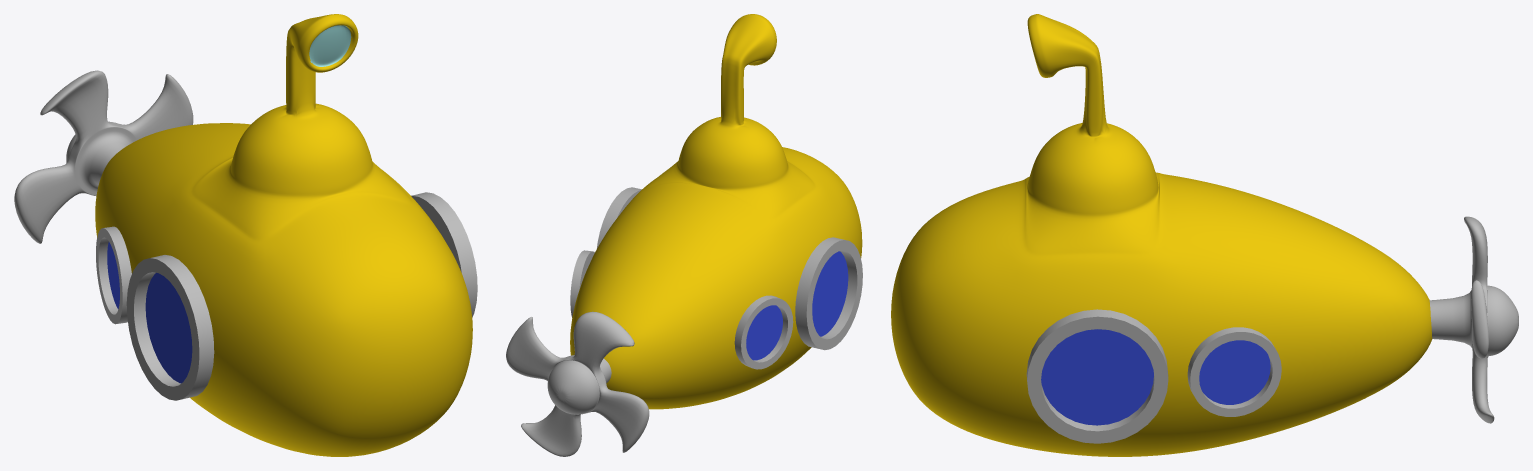
Rendered from Podmornica_model.fbx.
The picture shows the model from 3 angles, left to right: view 1: azimuth 30°, elevation 25°; view 2: azimuth 150°, elevation 25°; view 3: azimuth 270°, elevation 25°; orthographic projection. The views are drawn at different scales.
Visible parts, largest first — view 1: Podmornica, Circle, Cylinder.001, Cylinder.003, Cylinder; view 2: Podmornica, Circle, Cylinder.001, Cylinder.003, Cylinder, Cylinder.002; view 3: Podmornica, Cylinder, Circle, Cylinder.002.
Boxes of the visible parts, bbox=[...] form: Podmornica: bbox=[95, 14, 472, 456]; Circle: bbox=[14, 70, 193, 243]; Cylinder.001: bbox=[126, 255, 214, 400]; Cylinder.003: bbox=[96, 226, 131, 324]; Cylinder: bbox=[411, 192, 477, 317]; Podmornica: bbox=[570, 14, 862, 409]; Circle: bbox=[506, 311, 649, 456]; Cylinder.001: bbox=[795, 237, 862, 350]; Cylinder.003: bbox=[734, 295, 793, 369]; Cylinder: bbox=[597, 187, 641, 248]; Cylinder.002: bbox=[570, 250, 594, 317]; Podmornica: bbox=[891, 14, 1432, 456]; Cylinder: bbox=[1026, 309, 1168, 443]; Circle: bbox=[1429, 216, 1518, 423]; Cylinder.002: bbox=[1187, 327, 1281, 416].
Bounding box in the file's own units: 217 × 324 × 435.
